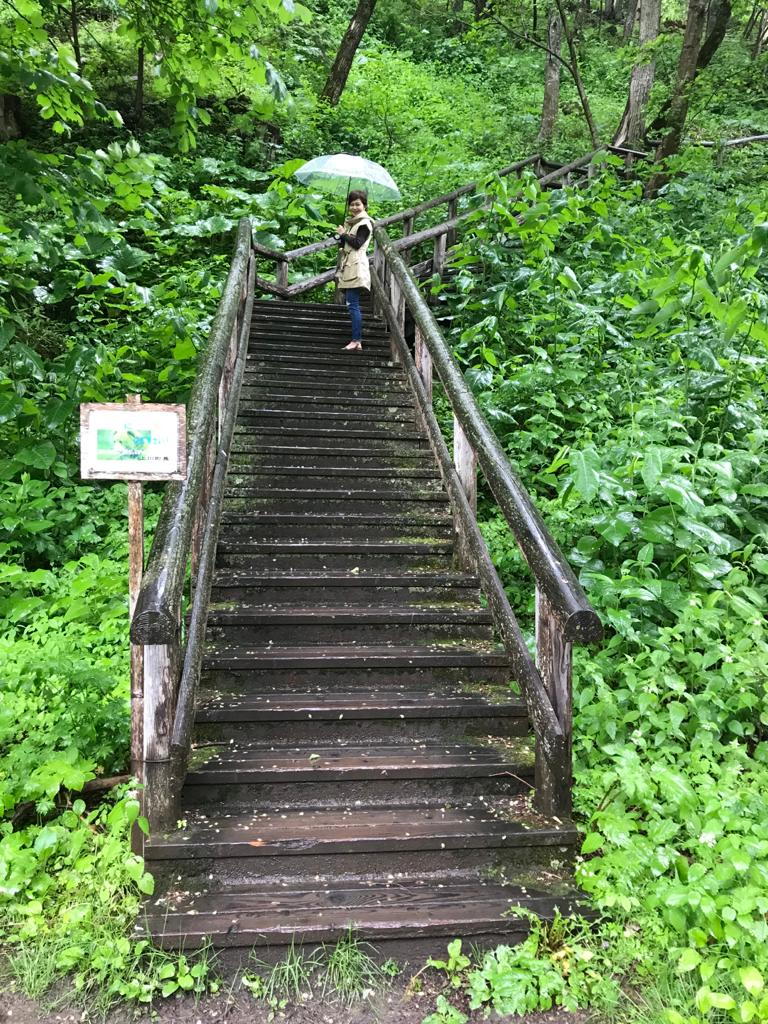upstairs: (179, 692, 544, 999)
